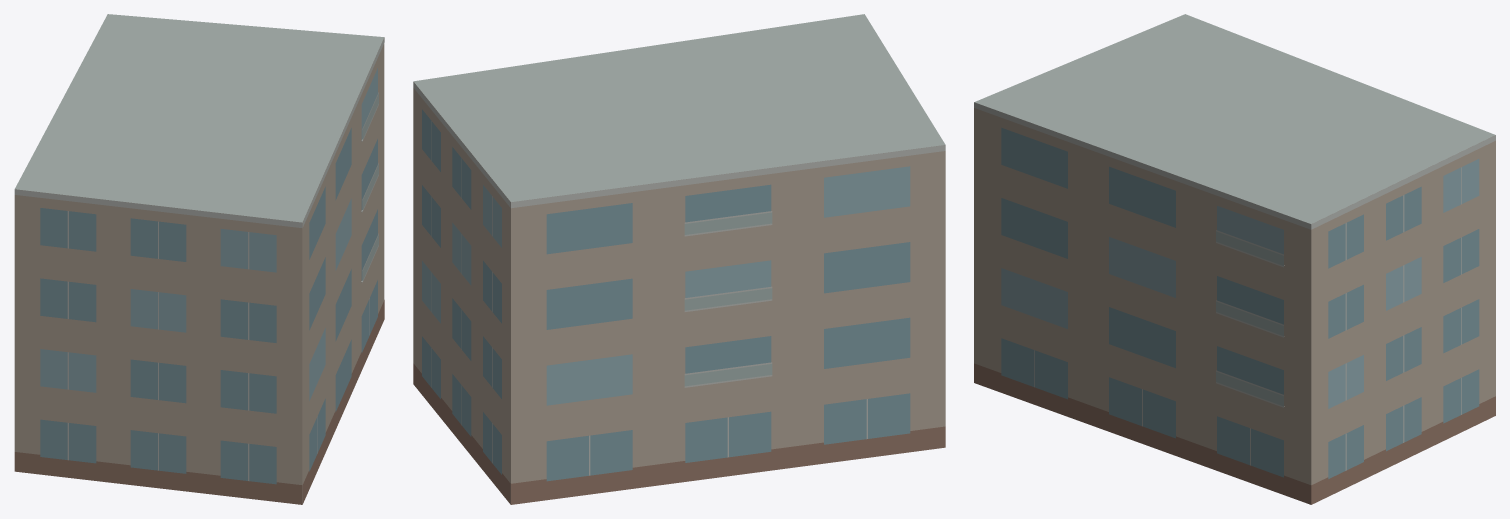
Rendered from residential-3342d01b-f05f-44c7-bd60-81b5d80e3130.glb.
3 views of the same model, side by side, from view 1: azimuth 30°, elevation 25°; view 2: azimuth 150°, elevation 25°; view 3: azimuth 270°, elevation 25° (orthographic). The views are drawn at different scales.
Visible parts, largest first — view 1: residential-3342d01b-f05f-44c7-bd60-81b5d80e3130.tmp; view 2: residential-3342d01b-f05f-44c7-bd60-81b5d80e3130.tmp; view 3: residential-3342d01b-f05f-44c7-bd60-81b5d80e3130.tmp.
Boxes of the visible parts, left/top/right/bottom form: residential-3342d01b-f05f-44c7-bd60-81b5d80e3130.tmp: left=14, top=14, right=384, bottom=504; residential-3342d01b-f05f-44c7-bd60-81b5d80e3130.tmp: left=413, top=14, right=945, bottom=504; residential-3342d01b-f05f-44c7-bd60-81b5d80e3130.tmp: left=974, top=14, right=1495, bottom=504.
Size of the model in its own units: 19.6 by 12.2 by 20.56.
